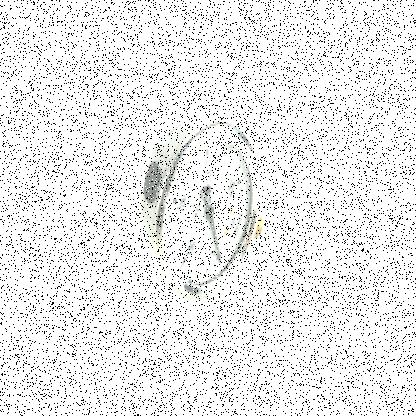needle: (209, 217, 220, 254)
